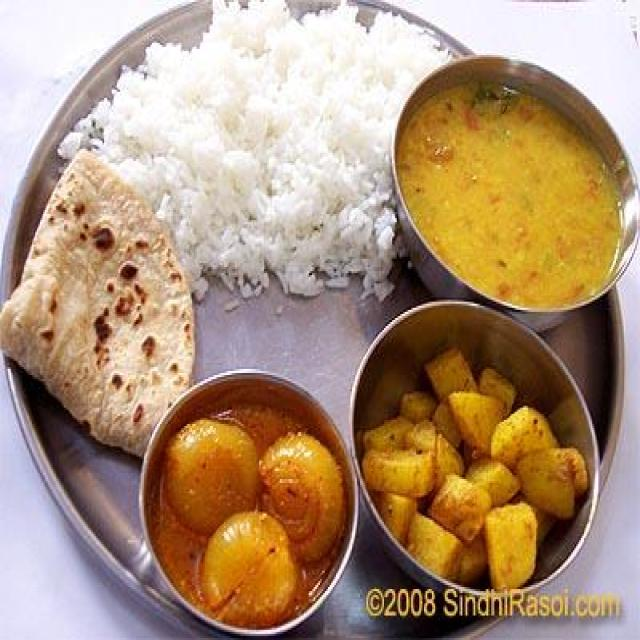dal: (401, 82, 620, 308)
rice: (58, 0, 458, 295)
roti: (0, 150, 196, 457)
